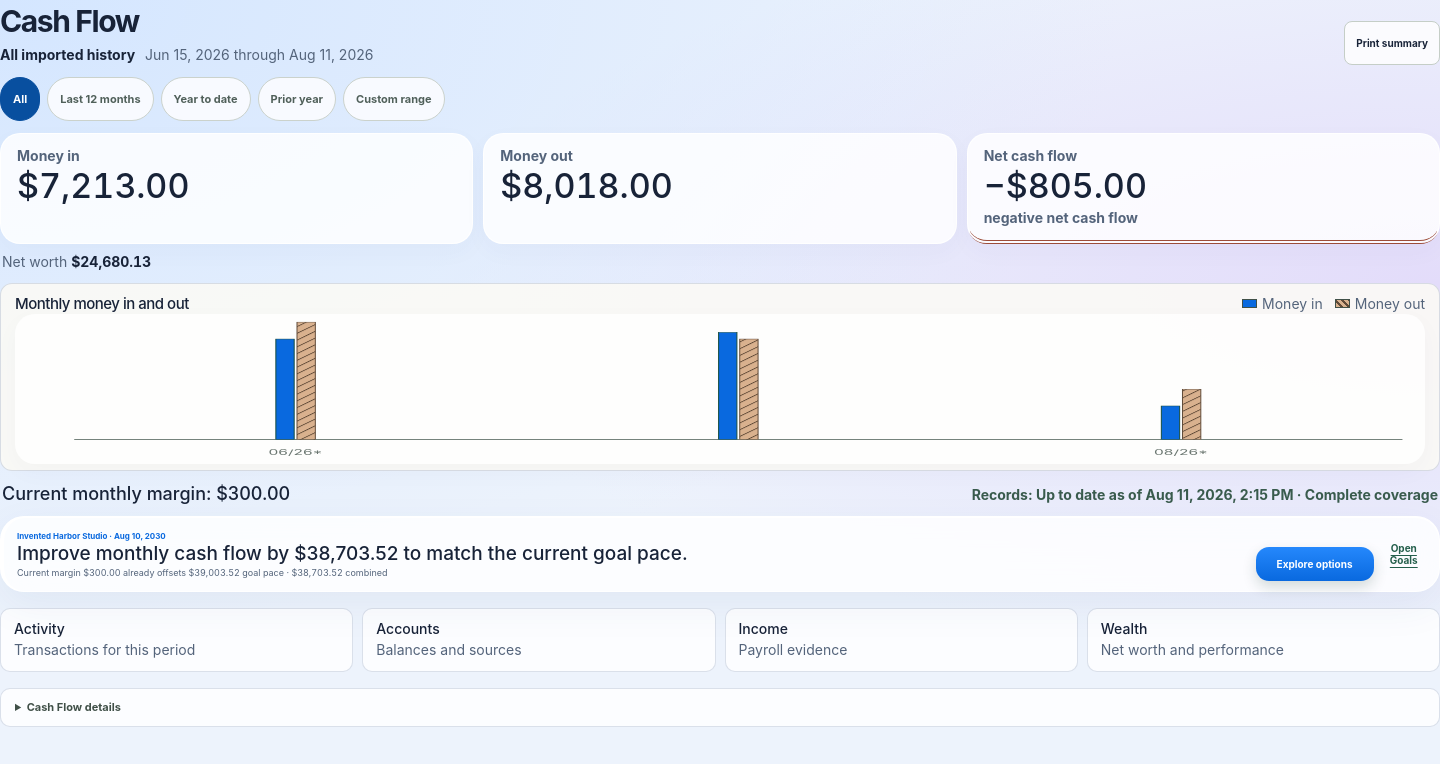
Cash Flow default surface › blocks a custom end beyond the API as-of date
This screenshot has width=1440, height=764.
Expected: the text "negative net cash flow" is shown, x1=984 y1=209 x2=1138 y2=226
Click the button "Custom range". click: (394, 99)
box: x1=343 y1=77 x2=444 y2=121
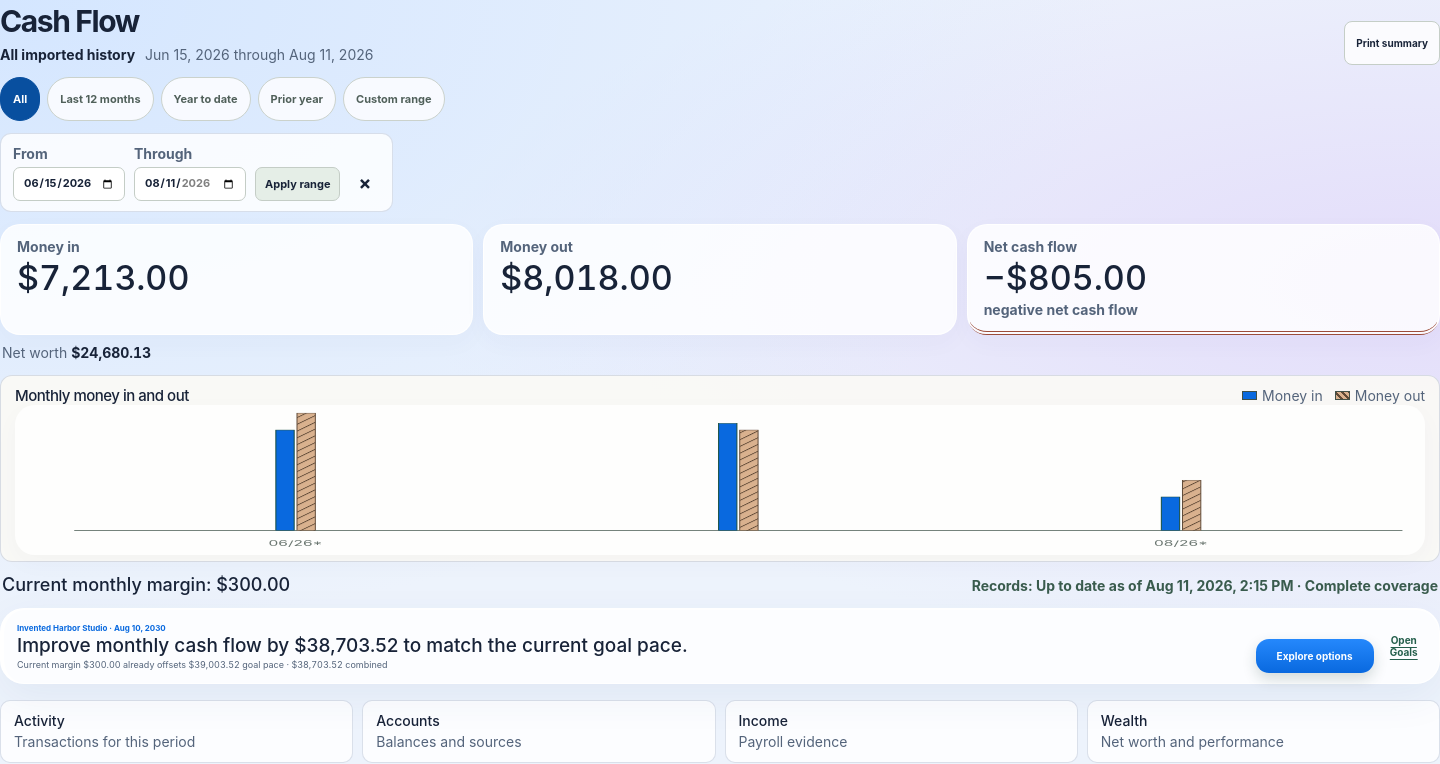
Type "2026-08-01" into the date field labelled "From". click: (69, 184)
box: x1=13 y1=167 x2=125 y2=201
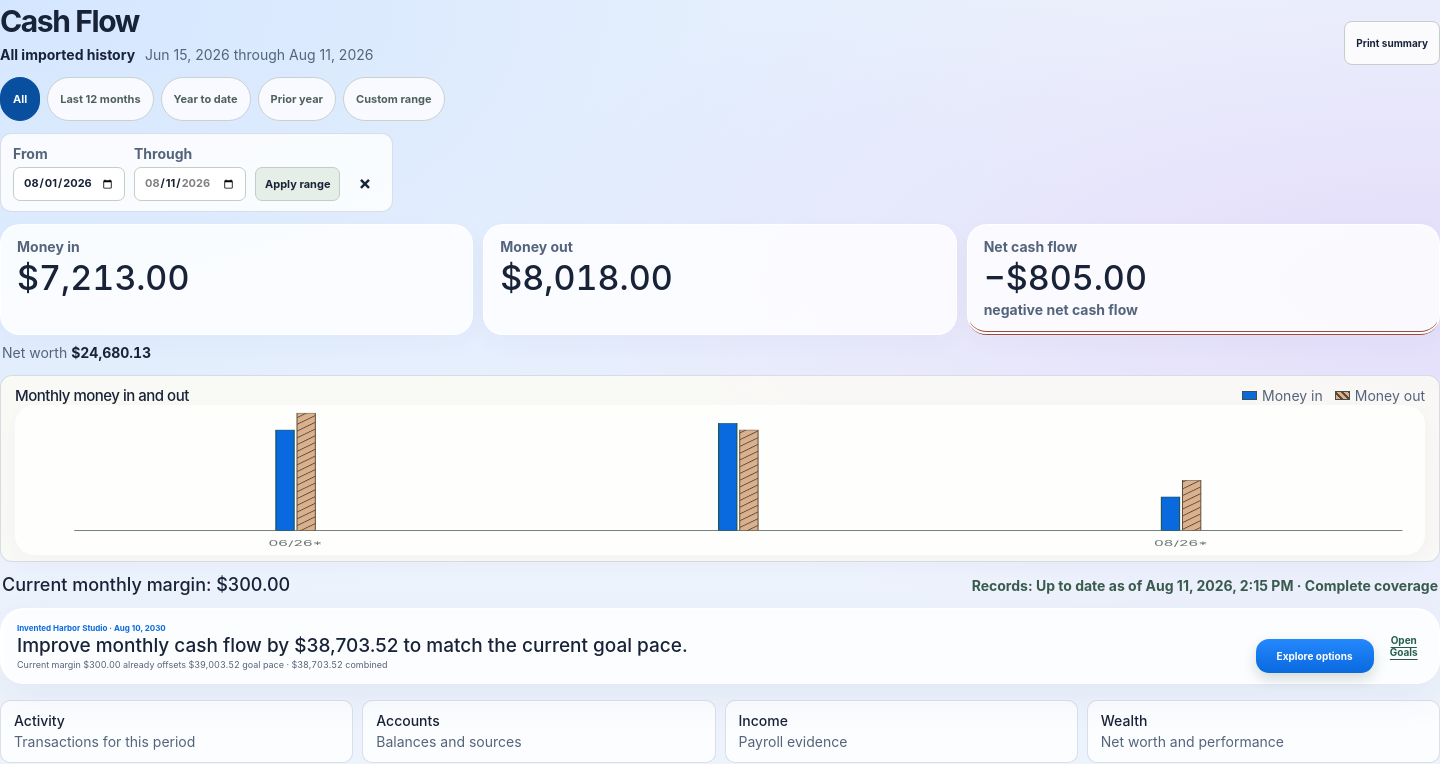
Type "2026-08-12" into the date field labelled "Through". click: (190, 184)
box: x1=134 y1=167 x2=246 y2=201
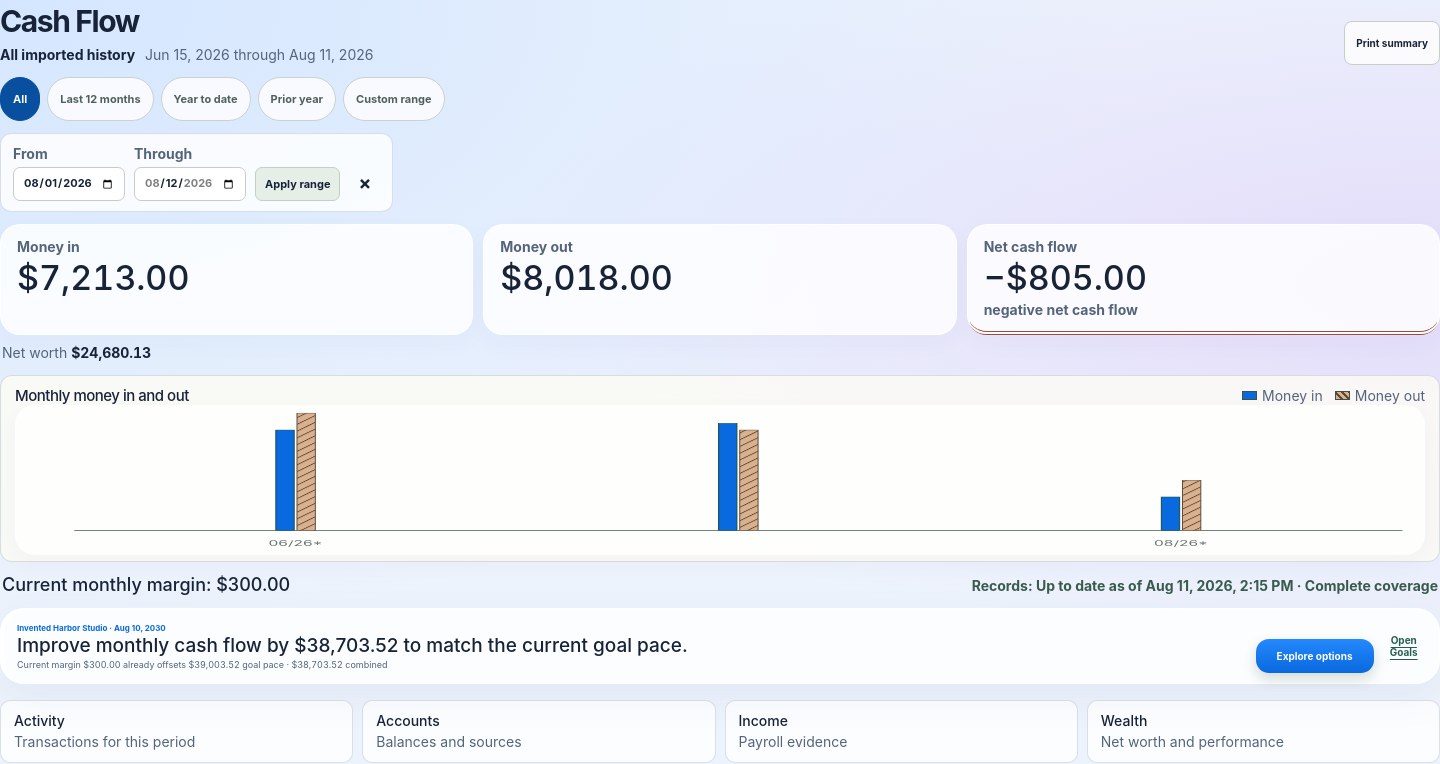
Click the button "Apply range". click: (298, 184)
box: x1=255 y1=167 x2=340 y2=201
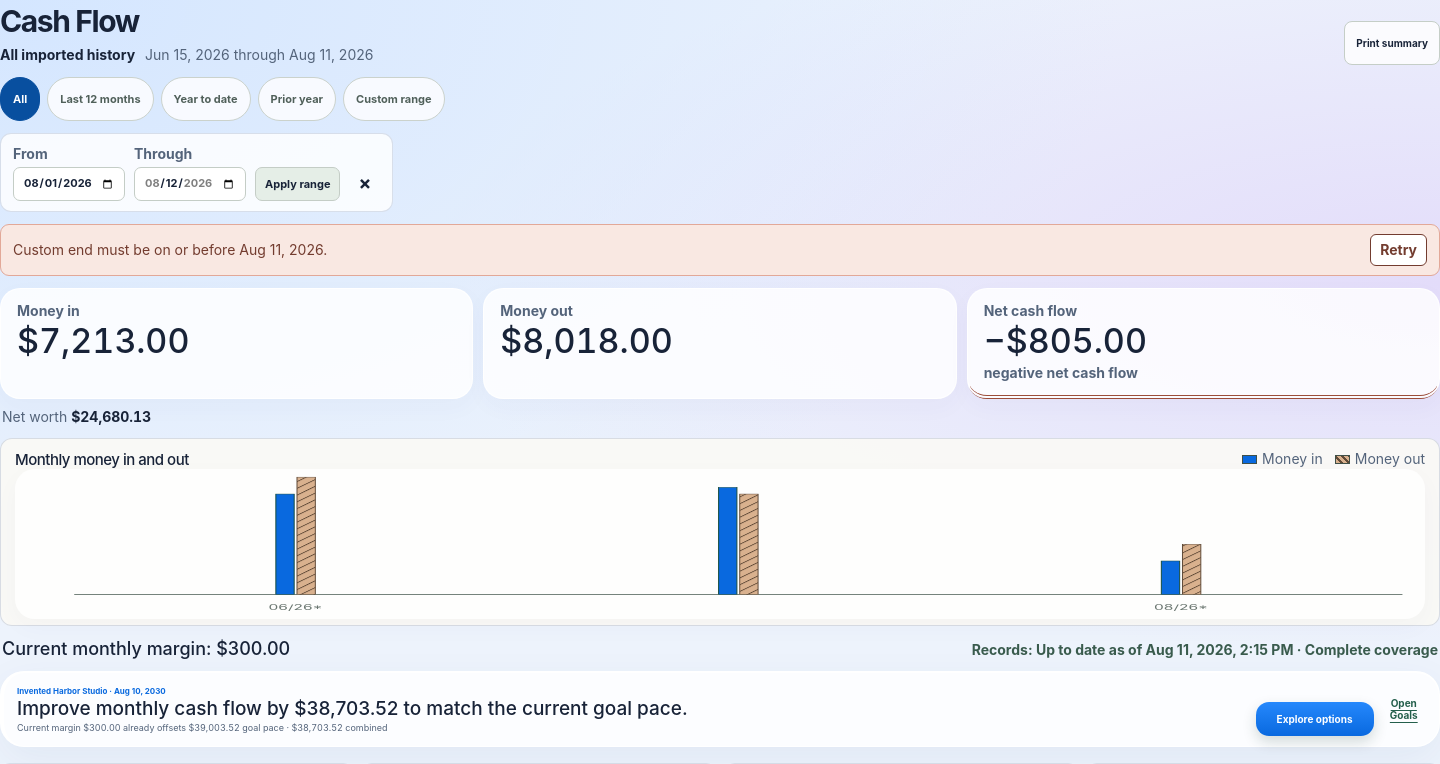
Expected: the message shows "on or before Aug 11, 2026", x1=13 y1=241 x2=327 y2=258
